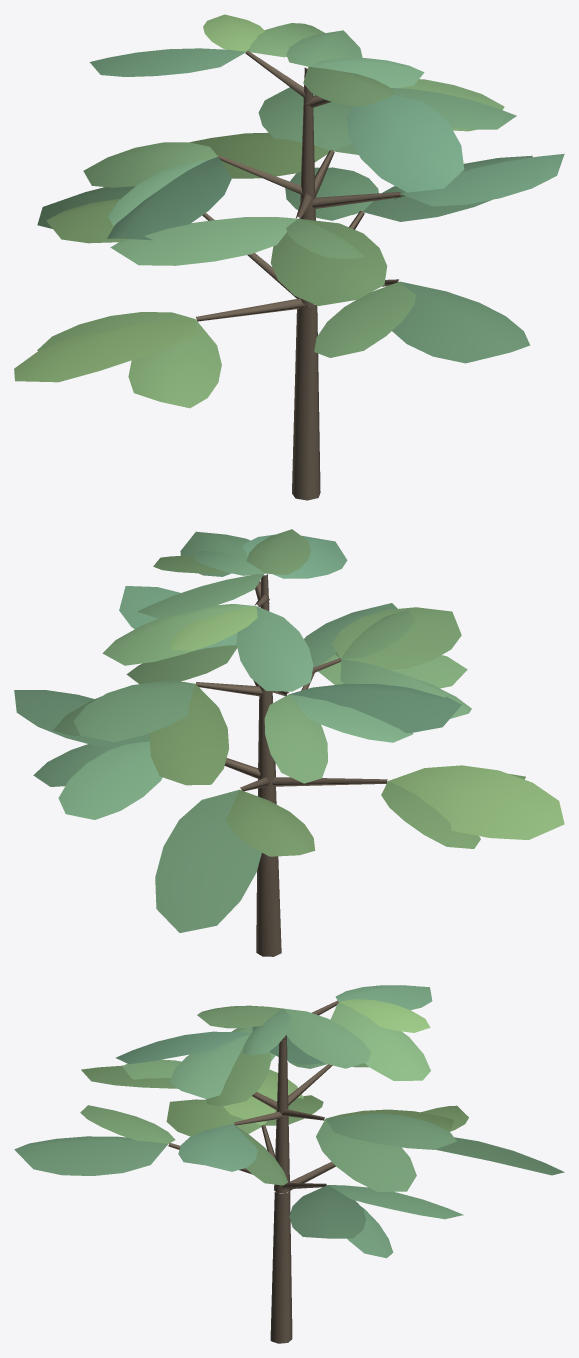
Rendered from tree-layered.glb.
3 views of the same model, one above another, from view 1: azimuth 30°, elevation 25°; view 2: azimuth 150°, elevation 25°; view 3: azimuth 270°, elevation 25° (orthographic). The views are drawn at different scales.
Parts seen in each view (by area): view 1: tree-layered; view 2: tree-layered; view 3: tree-layered.
Part boxes in pixels (<box>): tree-layered: <box>14,14,564,500</box>; tree-layered: <box>14,529,564,956</box>; tree-layered: <box>14,985,564,1343</box>.
Bounding box in the file's own units: 12.04 × 8.76 × 12.96.
